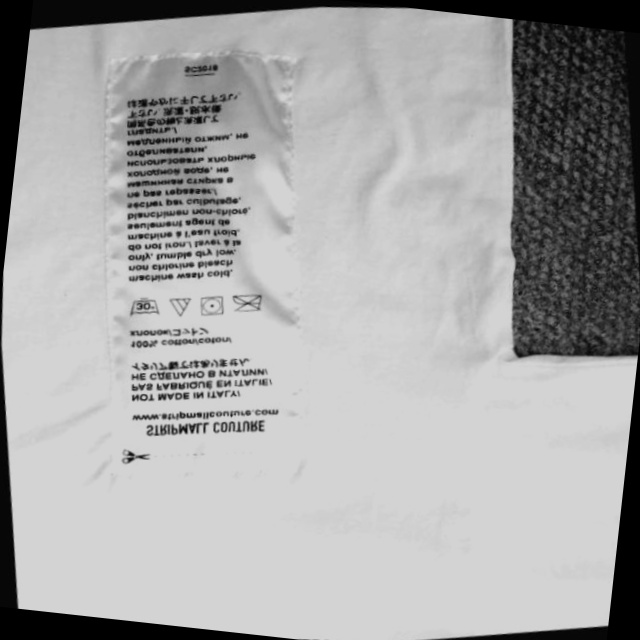30C: (124, 293, 163, 320)
DN_iron: (230, 288, 270, 320)
non_chlorine_bleach: (165, 293, 194, 319)
tumble_dry_low: (192, 291, 228, 318)
